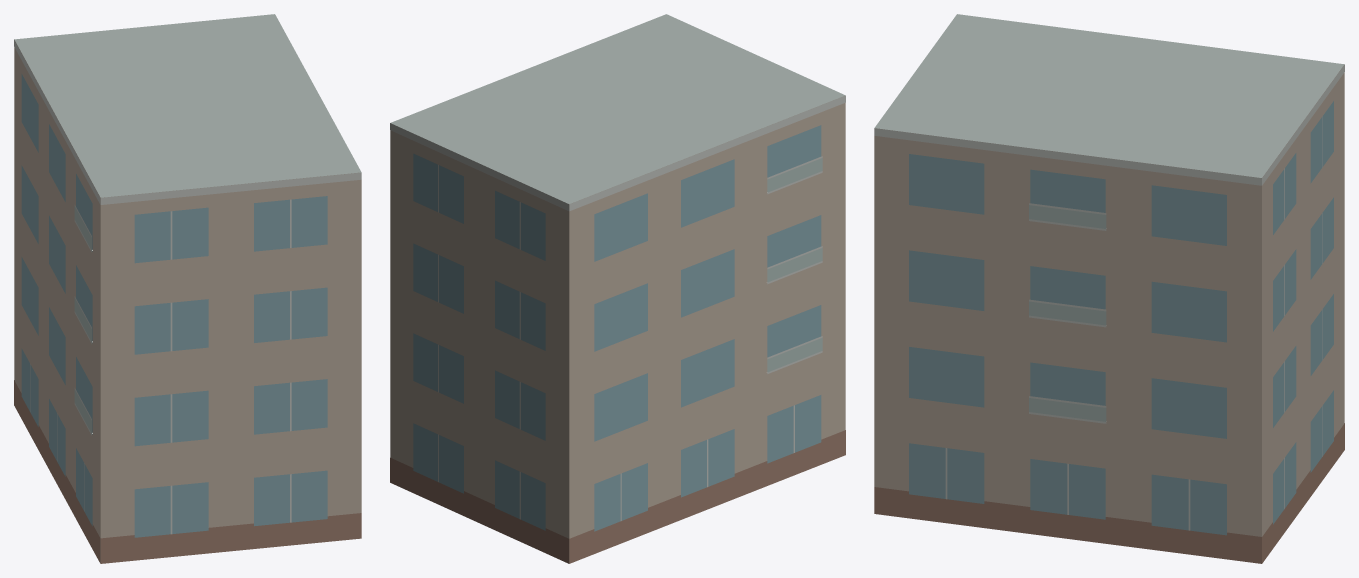
Rendered from residential-318802dd-ab4a-47f8-81b2-e1d3b989cdb7.glb.
The picture shows the model from 3 angles, left to right: view 1: azimuth 30°, elevation 25°; view 2: azimuth 150°, elevation 25°; view 3: azimuth 270°, elevation 25°; orthographic projection. The views are drawn at different scales.
Parts seen in each view (by area): view 1: residential-318802dd-ab4a-47f8-81b2-e1d3b989cdb7.tmp; view 2: residential-318802dd-ab4a-47f8-81b2-e1d3b989cdb7.tmp; view 3: residential-318802dd-ab4a-47f8-81b2-e1d3b989cdb7.tmp.
Boxes of the visible parts, x1,y1,x2,y2 form: residential-318802dd-ab4a-47f8-81b2-e1d3b989cdb7.tmp: (14,14,361,563); residential-318802dd-ab4a-47f8-81b2-e1d3b989cdb7.tmp: (390,14,845,563); residential-318802dd-ab4a-47f8-81b2-e1d3b989cdb7.tmp: (874,14,1344,563).
Size of the model in its own units: 11.14 by 12.2 by 13.49.
